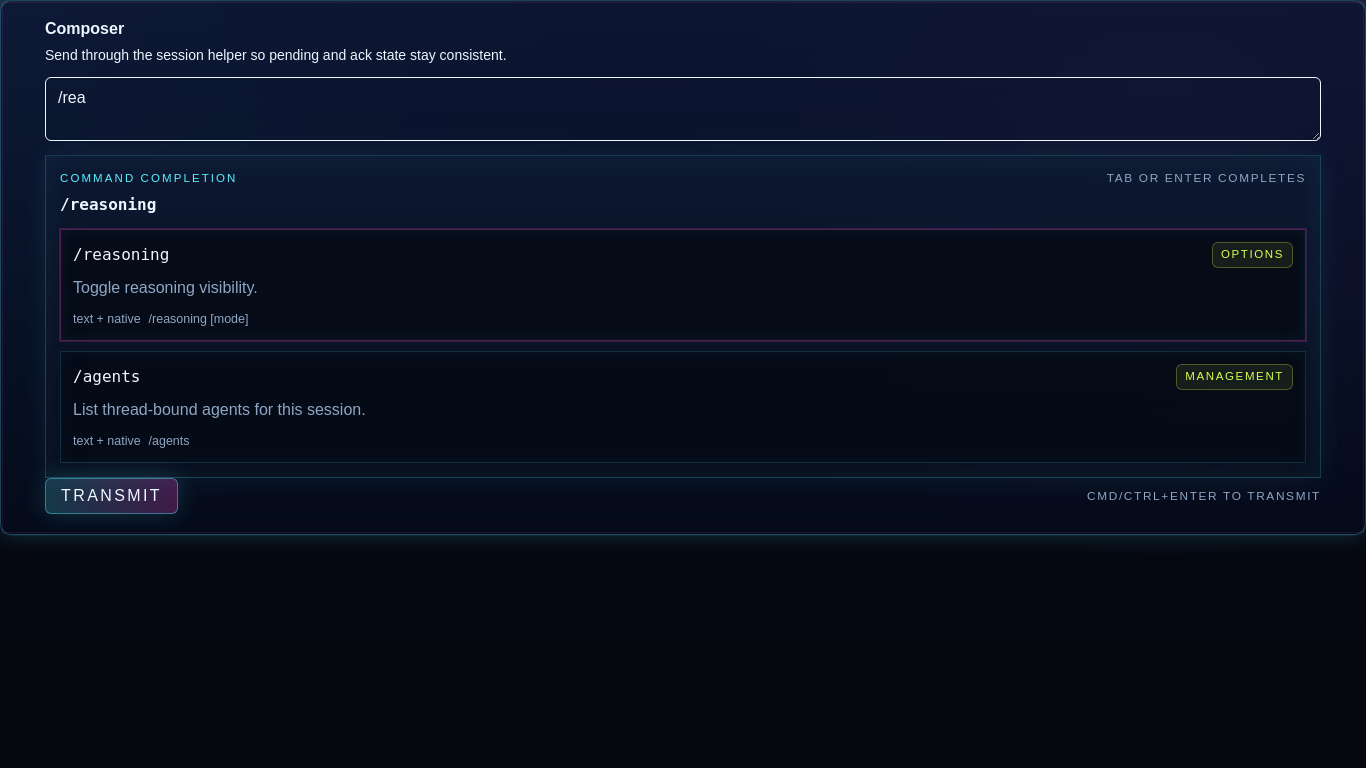
Test: web demo components › completes a slash command from the suggestion deck
The width and height of the screenshot is (1366, 768).
Click the button "/reasoning" at (121, 254), box [60,229,1306,341]
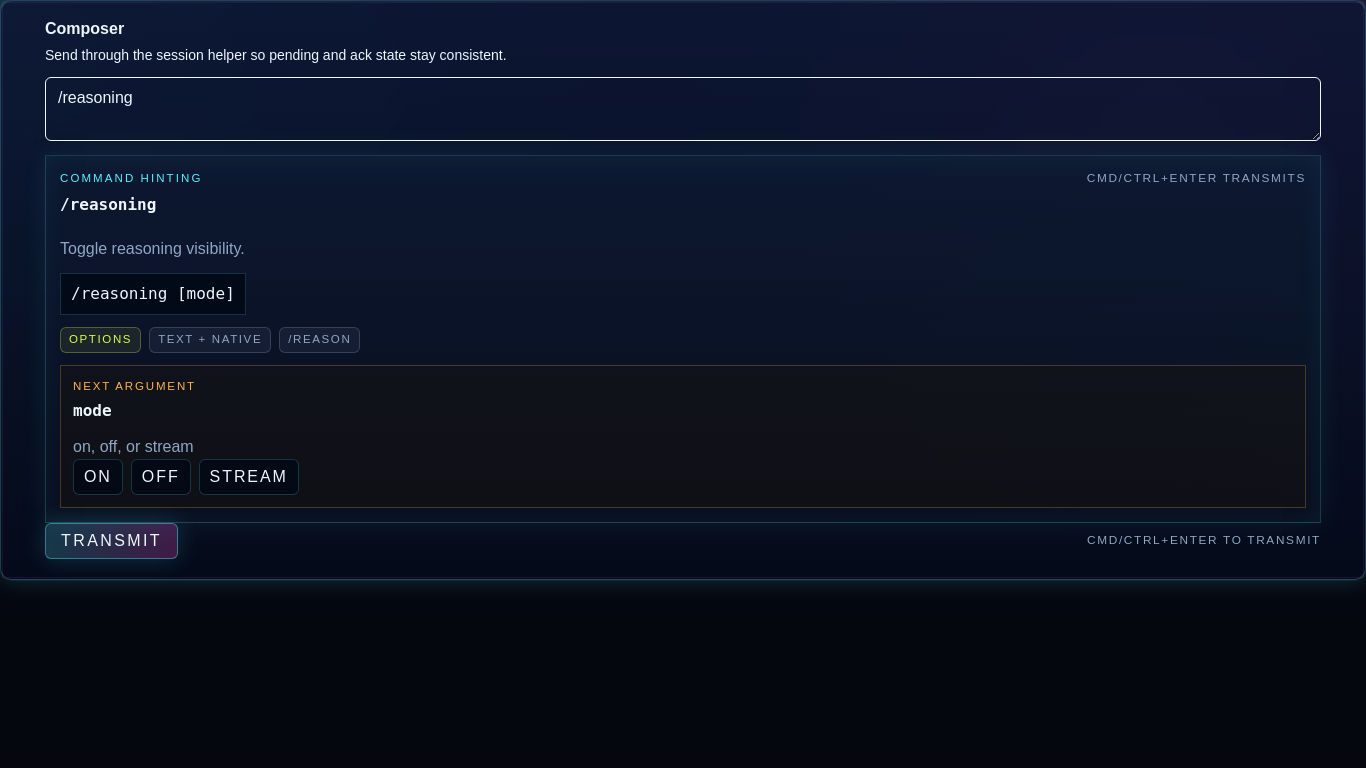
Result: the text box holds "/reasoning " at [45,77,1321,141]
Result: the text "Command hinting" is shown at [60,170,202,187]
